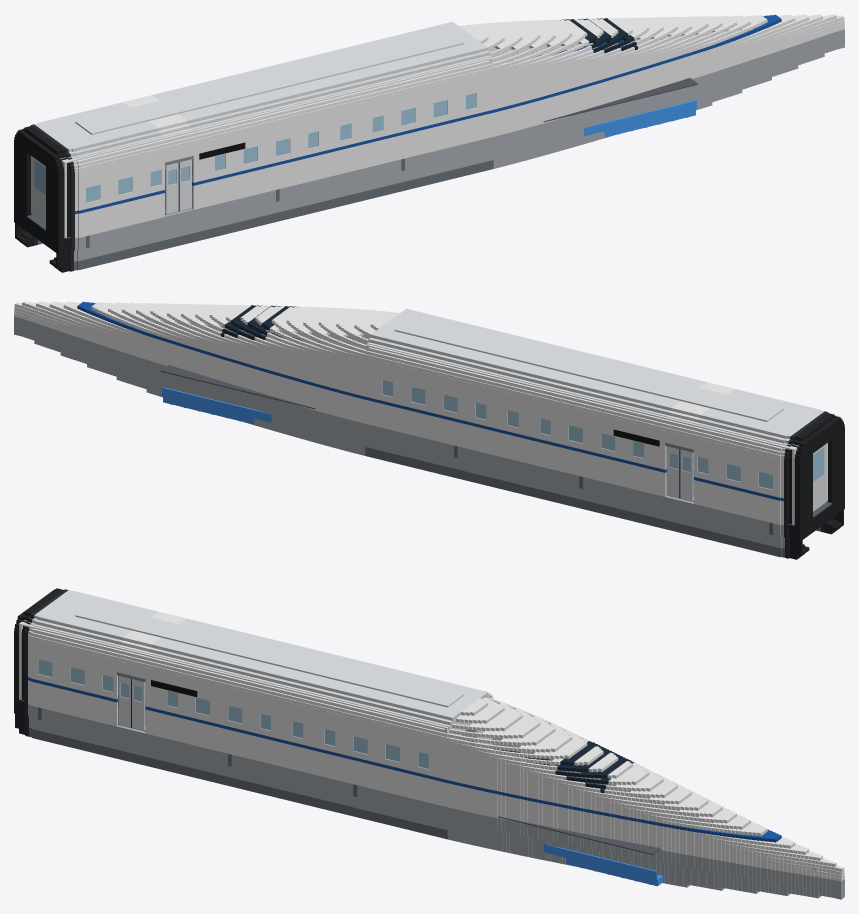
File: mlx01_front.obj
The picture shows the model from 3 angles, top to bottom: view 1: azimuth 30°, elevation 25°; view 2: azimuth 150°, elevation 25°; view 3: azimuth 330°, elevation 25°; orthographic projection.
Visible parts, largest first — view 1: SHELL, SHELL_roof, SHELL_diaphragm, SHELL_ceiling, BOGEY_FRONT, SHELL_floor, CONNECTING_DOOR_1_CG_CR_TOGGLE_TL_0.98_Z, EXTERNAL_DOOR_3_CG_DR1_TOGGLE_TL_-0.39_X, EXTERNAL_DOOR_4_CG_DR1_TOGGLE_TL_0.39_X; view 2: SHELL, SHELL_roof, SHELL_diaphragm, SHELL_ceiling, BOGEY_FRONT, SHELL_floor, CONNECTING_DOOR_1_CG_CR_TOGGLE_TL_0.98_Z, EXTERNAL_DOOR_6_CG_DL1_TOGGLE_TL_-0.39_X, EXTERNAL_DOOR_7_CG_DL1_TOGGLE_TL_0.39_X; view 3: SHELL, SHELL_roof, SHELL_ceiling, BOGEY_FRONT, SHELL_floor, EXTERNAL_DOOR_4_CG_DR1_TOGGLE_TL_0.39_X, EXTERNAL_DOOR_3_CG_DR1_TOGGLE_TL_-0.39_X.
Part boxes in pixels (<box>): SHELL: <box>19,14,844,272</box>; SHELL_roof: <box>75,30,464,134</box>; SHELL_diaphragm: <box>14,129,62,268</box>; SHELL_ceiling: <box>21,56,490,163</box>; BOGEY_FRONT: <box>584,100,696,137</box>; SHELL_floor: <box>67,78,697,237</box>; CONNECTING_DOOR_1_CG_CR_TOGGLE_TL_0.98_Z: <box>33,157,45,224</box>; EXTERNAL_DOOR_3_CG_DR1_TOGGLE_TL_-0.39_X: <box>165,162,179,214</box>; EXTERNAL_DOOR_4_CG_DR1_TOGGLE_TL_0.39_X: <box>179,159,191,210</box>; SHELL: <box>14,301,839,559</box>; SHELL_roof: <box>394,317,783,421</box>; SHELL_diaphragm: <box>796,416,844,555</box>; SHELL_ceiling: <box>368,343,837,450</box>; BOGEY_FRONT: <box>162,387,271,424</box>; SHELL_floor: <box>161,365,791,524</box>; CONNECTING_DOOR_1_CG_CR_TOGGLE_TL_0.98_Z: <box>813,444,825,511</box>; EXTERNAL_DOOR_6_CG_DL1_TOGGLE_TL_-0.39_X: <box>679,449,693,501</box>; EXTERNAL_DOOR_7_CG_DL1_TOGGLE_TL_0.39_X: <box>667,446,679,497</box>; SHELL: <box>18,588,844,899</box>; SHELL_roof: <box>75,603,464,707</box>; SHELL_ceiling: <box>20,620,447,728</box>; BOGEY_FRONT: <box>543,844,662,886</box>; SHELL_floor: <box>21,682,660,854</box>; EXTERNAL_DOOR_4_CG_DR1_TOGGLE_TL_0.39_X: <box>132,679,145,730</box>; EXTERNAL_DOOR_3_CG_DR1_TOGGLE_TL_-0.39_X: <box>118,676,131,727</box>.
Bounding box in the file's own units: 28.16 × 3.97 × 2.92.
1 material, 1 textured.
